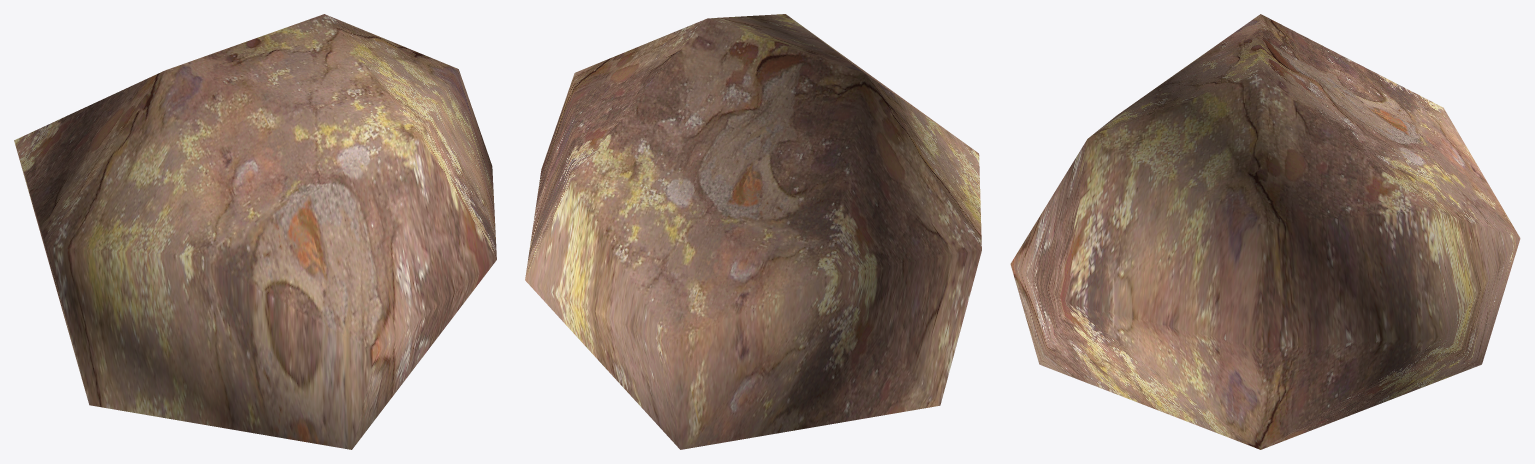
File: boulder2.fbx
The picture shows the model from 3 angles, left to right: view 1: azimuth 30°, elevation 25°; view 2: azimuth 150°, elevation 25°; view 3: azimuth 270°, elevation 25°; orthographic projection.
Visible parts, largest first — view 1: boulder2; view 2: boulder2; view 3: boulder2.
Part boxes in pixels (bbox=[...]): boulder2: bbox=[14, 14, 496, 449]; boulder2: bbox=[525, 14, 981, 449]; boulder2: bbox=[1010, 14, 1520, 449].
Size of the model in its own units: 42400 by 30400 by 42400.
